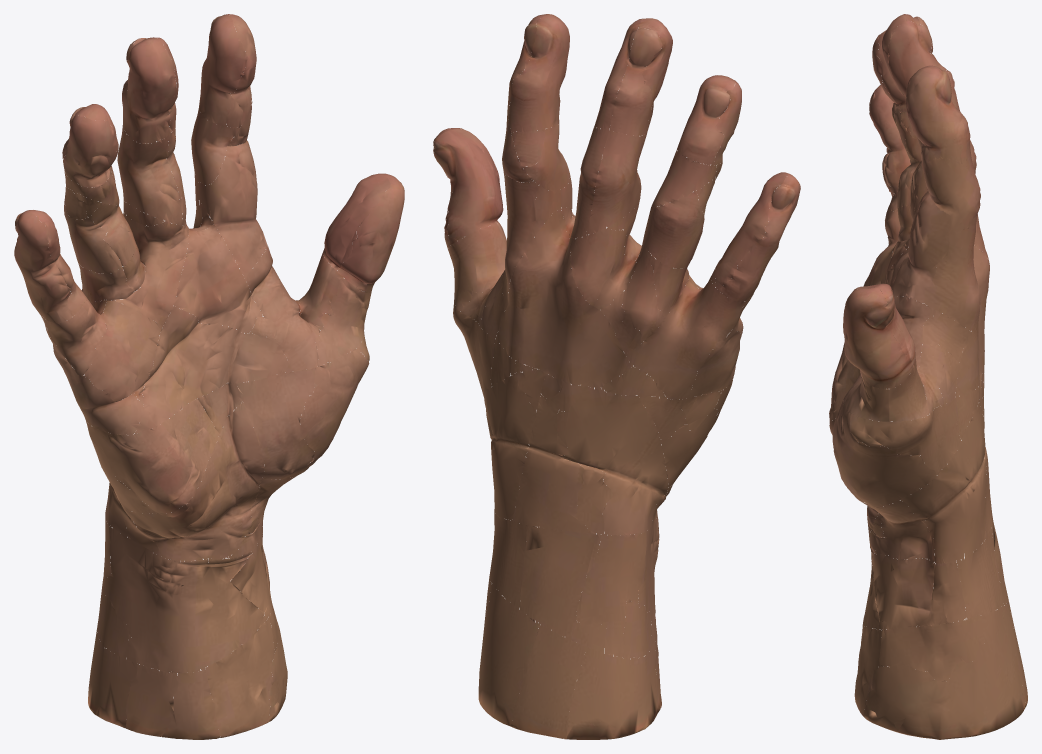
Rendered from hand.glb.
The picture shows the model from 3 angles, left to right: view 1: azimuth 30°, elevation 25°; view 2: azimuth 150°, elevation 25°; view 3: azimuth 270°, elevation 25°; orthographic projection. The views are drawn at different scales.
Parts seen in each view (by area): view 1: tripo_node_c22de8b5-c831-4fb8-9e6c-d95f49e4f325; view 2: tripo_node_c22de8b5-c831-4fb8-9e6c-d95f49e4f325; view 3: tripo_node_c22de8b5-c831-4fb8-9e6c-d95f49e4f325.
Part boxes in pixels (left/top/right/bottom): tripo_node_c22de8b5-c831-4fb8-9e6c-d95f49e4f325: left=14, top=14, right=404, bottom=739; tripo_node_c22de8b5-c831-4fb8-9e6c-d95f49e4f325: left=433, top=14, right=800, bottom=739; tripo_node_c22de8b5-c831-4fb8-9e6c-d95f49e4f325: left=829, top=14, right=1027, bottom=739.
Size of the model in its own units: 0.5554 by 0.9813 by 0.269.
1 material, 1 textured.
